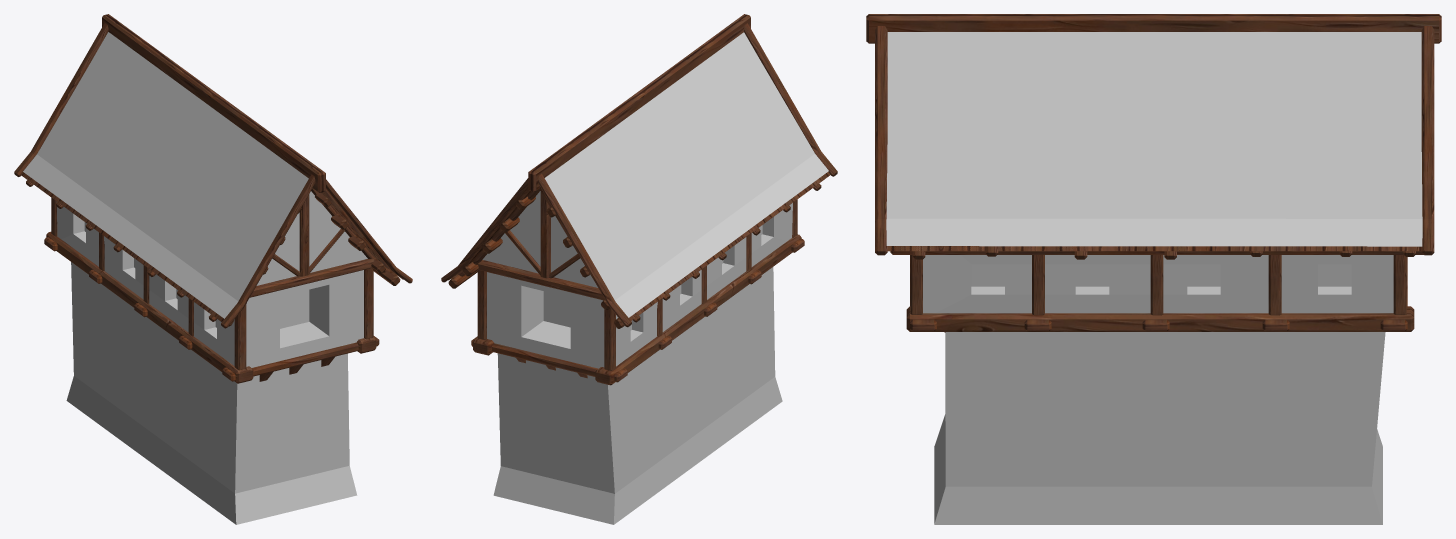
File: EnterLR.fbx
3 views of the same model, side by side, from view 1: azimuth 30°, elevation 25°; view 2: azimuth 150°, elevation 25°; view 3: azimuth 270°, elevation 25° (orthographic). The views are drawn at different scales.
Visible parts, largest first — view 1: Enter.053, Cube.052, Enter.076; view 2: Enter.053, Cube.052, Enter.076; view 3: Cube.052, Enter.053, Enter.076.
Part boxes in pixels (box(x1,y1,x2,y2)): Enter.053: box(56, 191, 367, 524); Cube.052: box(14, 14, 412, 328); Enter.076: box(44, 194, 379, 383); Enter.053: box(482, 191, 792, 524); Cube.052: box(441, 14, 837, 328); Enter.076: box(471, 192, 804, 385); Cube.052: box(866, 14, 1441, 259); Enter.053: box(923, 255, 1393, 524); Enter.076: box(906, 255, 1414, 332).
Size of the model in its own units: 923 by 1659 by 1840.
